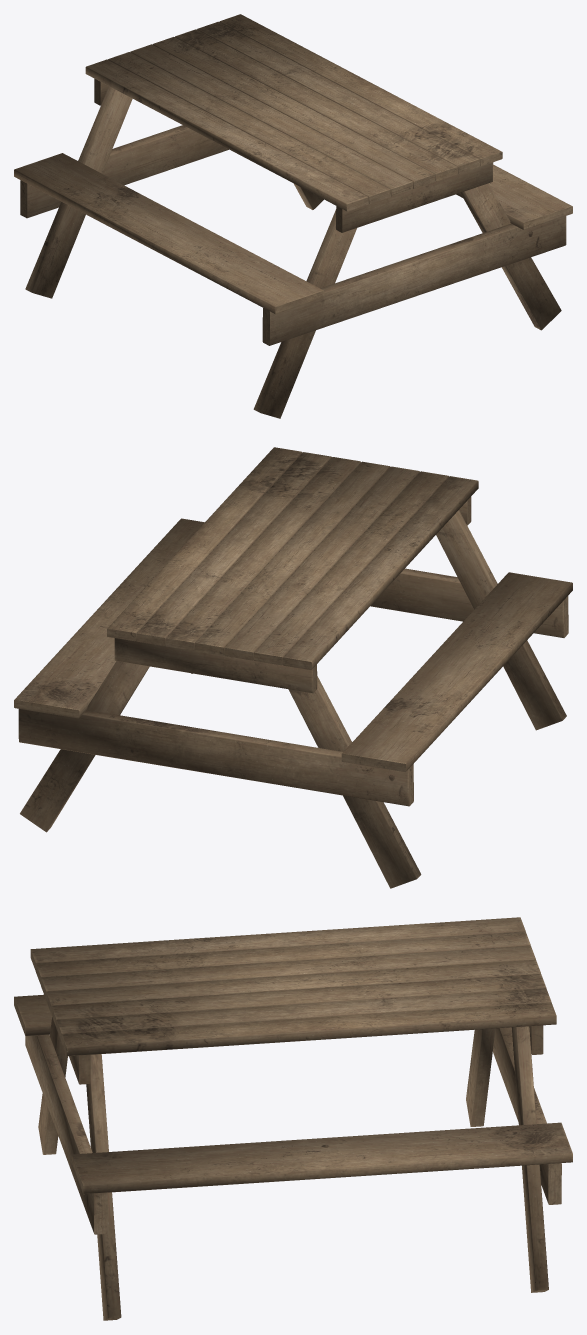
The model's file is table.glb.
3 views of the same model, one above another, from view 1: azimuth 30°, elevation 25°; view 2: azimuth 150°, elevation 25°; view 3: azimuth 270°, elevation 25° (orthographic). The views are drawn at different scales.
Visible parts, largest first — view 1: Cube; view 2: Cube; view 3: Cube.
Part boxes in pixels (x1,y1,x2,y2): Cube: (14, 14, 572, 418); Cube: (14, 447, 572, 888); Cube: (14, 917, 572, 1320).
Bounding box in the file's own units: 1.94 × 0.9908 × 2.08.
1 material, 1 textured.
